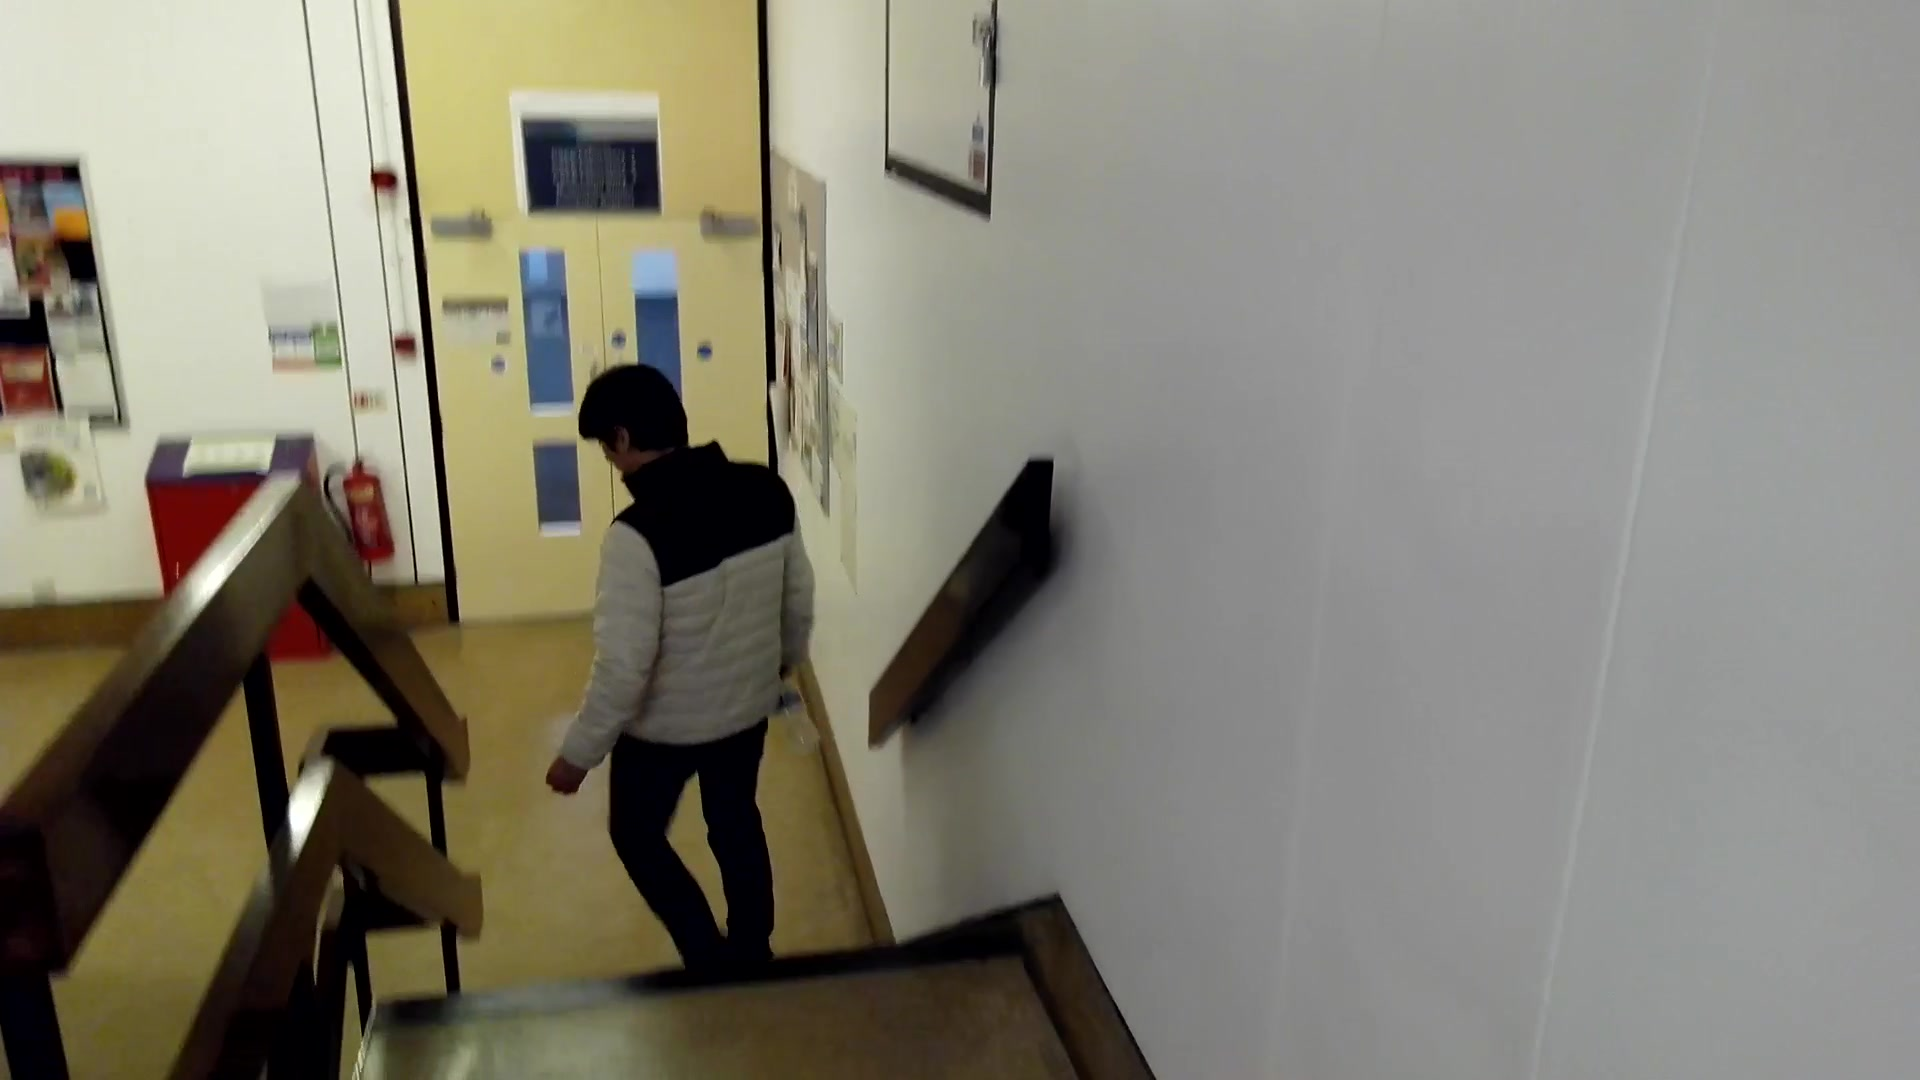Door: (409, 209, 597, 635)
Person: (564, 370, 820, 951)
